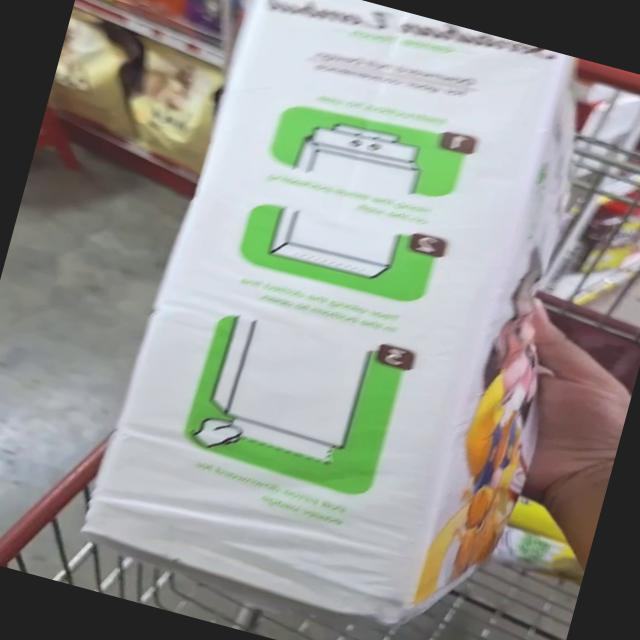Tisu: (44, 214, 548, 640), (150, 0, 617, 345)
